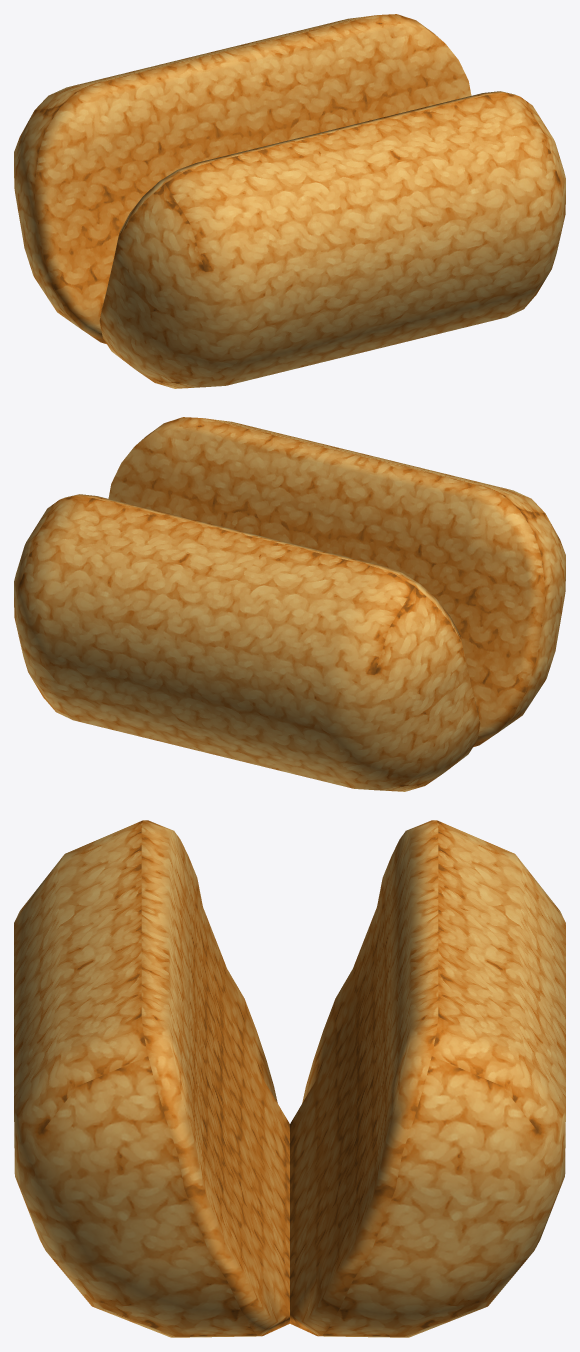
File: Bun.fbx
3 views of the same model, one above another, from view 1: azimuth 30°, elevation 25°; view 2: azimuth 150°, elevation 25°; view 3: azimuth 270°, elevation 25° (orthographic). The views are drawn at different scales.
Parts seen in each view (by area): view 1: Bun3; view 2: Bun3; view 3: Bun3.
Boxes of the visible parts, x1,y1,x2,y2 form: Bun3: [14, 14, 565, 388]; Bun3: [14, 417, 565, 791]; Bun3: [14, 820, 565, 1337].
Size of the model in its own units: 0.0462 by 0.0237 by 0.0377.
